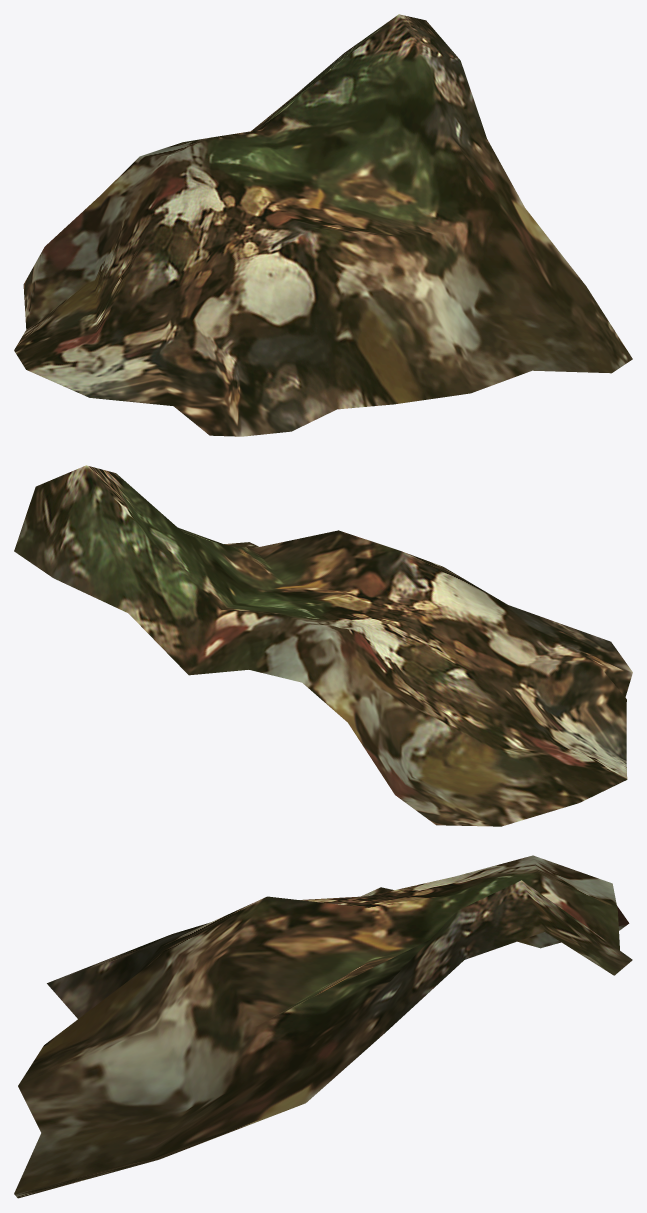
Rendered from SM_Tas_03.fbx.
3 renders of one model, top to bottom at view 1: azimuth 30°, elevation 25°; view 2: azimuth 150°, elevation 25°; view 3: azimuth 270°, elevation 25°, orthographic. The views are drawn at different scales.
Parts seen in each view (by area): view 1: Tas_03; view 2: Tas_03; view 3: Tas_03.
Part boxes in pixels (x1,y1,x2,y2): Tas_03: (14,14,632,436); Tas_03: (14,465,632,826); Tas_03: (14,855,632,1198).
Bounding box in the file's own units: 116 × 54.61 × 97.61.
1 material, 1 textured.
